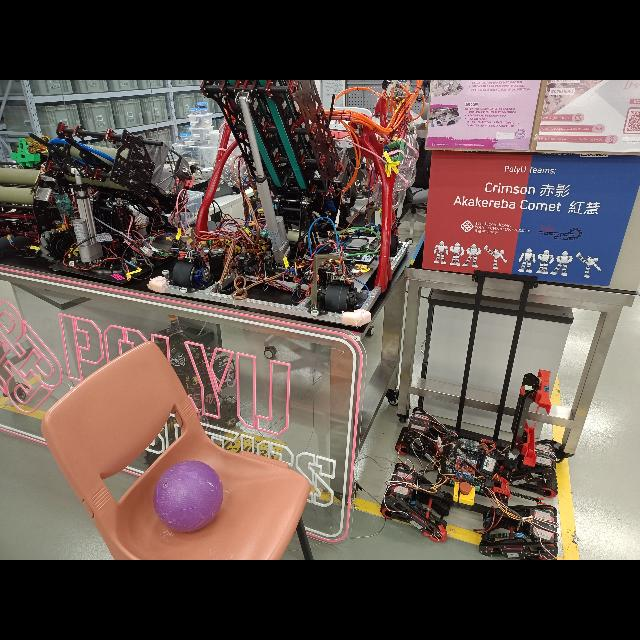P: (153, 461, 223, 533)
